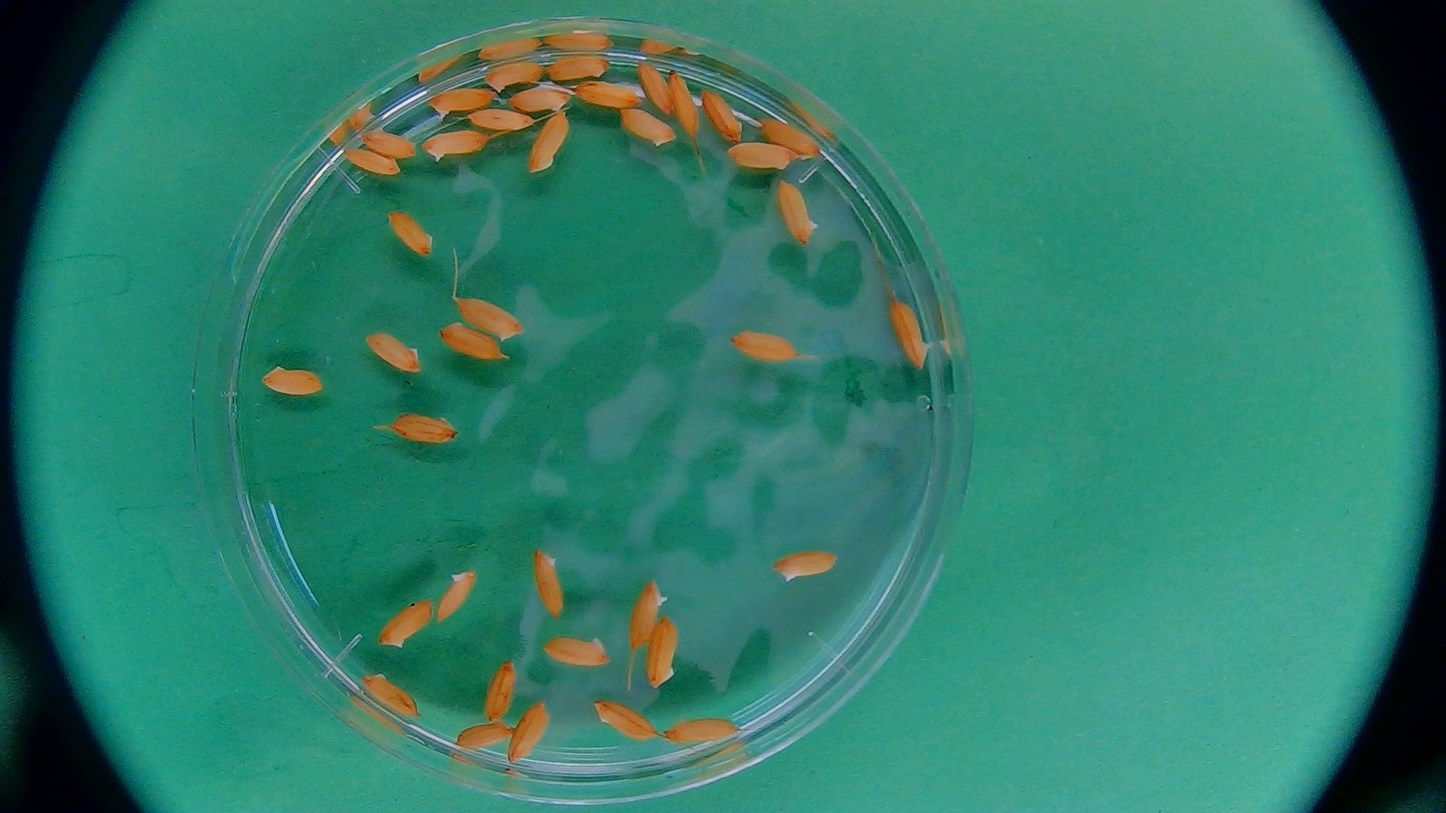no: (446, 290, 541, 343), (882, 292, 937, 374), (437, 321, 519, 369), (731, 325, 818, 368), (590, 696, 663, 744), (773, 178, 822, 248), (361, 666, 423, 720), (758, 114, 825, 163), (508, 698, 551, 768), (541, 631, 615, 671), (528, 108, 571, 176), (615, 104, 679, 149), (370, 601, 433, 646), (645, 615, 682, 689), (529, 550, 568, 620), (703, 84, 746, 147), (632, 577, 668, 651), (364, 330, 423, 374), (354, 123, 422, 161), (636, 57, 677, 120), (389, 410, 460, 446), (382, 209, 435, 257), (662, 715, 746, 745), (423, 84, 499, 117), (417, 126, 490, 160), (479, 660, 517, 725), (260, 361, 328, 397), (476, 61, 551, 92), (340, 144, 406, 179), (723, 141, 800, 171), (773, 550, 841, 581), (453, 719, 521, 750), (575, 82, 648, 110), (548, 53, 618, 82), (669, 74, 700, 136), (439, 571, 474, 625), (505, 88, 573, 112), (470, 106, 537, 130)
